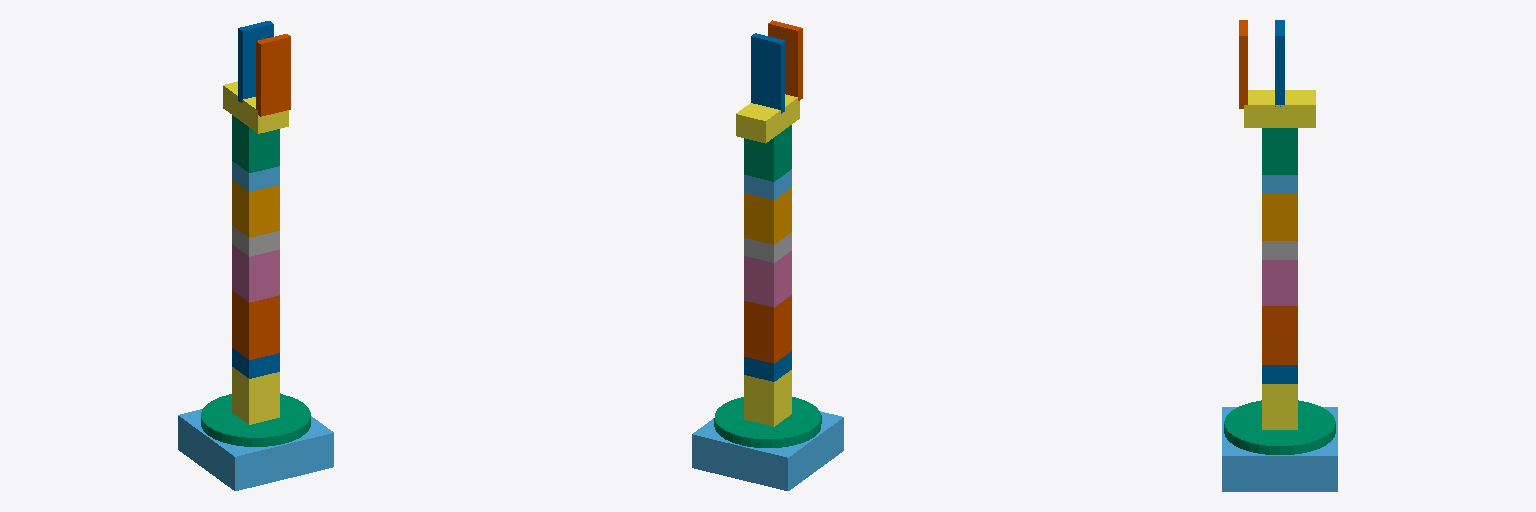
The robot description file, URDF, robot "crustcrawler":
<?xml version="1.0"?>
<robot name="crustcrawler">

<!-- Fixing robot to world frame-->
<link name="world">
  <origin xyz="0 0 -100" rpy="0 0 0"/>
</link>
<joint name="fixed" type="fixed">
    <parent link="world"/>
    <child link="base_link"/>
</joint>

<!-- Base -->
<link name="base_link">
  <visual>
    <geometry>
      <box size ="0.1143 0.1143 0.0381"/>
    </geometry>
    <origin xyz="0 0 0" rpy="0 0 0"/>
  </visual>
<inertial>
  <origin xyz="0 0 0" rpy="0 0 0"/>
  <mass value="2"/>
  <inertia ixx="1" ixy="0" ixz="0" iyy="1" iyz="0" izz="1" />
</inertial>
</link>

<!-- First Joint -->
<link name="turntable">
  <visual>
    <geometry>
      <cylinder radius= "0.055" length= "0.01"/>
    </geometry>
    <origin xyz ="0 0 0" rpy="0 0 0"/>
  </visual>
  <inertial>
     <origin xyz="0 0 0" rpy="0 0 0"/>
     <mass value="0.05"/>
     <inertia ixx="0.082" ixy="0" ixz="0" iyy="0.082" iyz="0" izz="0.076" />
   </inertial>

</link>
<joint name="base_to_turntable" type="continuous">
  <parent link="base_link"/>
  <child link="turntable"/>
  <origin xyz="0 0 0.02405" rpy="0 0 0"/>
  <axis xyz ="0 0 1"/>
</joint>


<!-- Second Joint -->
<link name="second_motor">
  <visual>
    <geometry>
      <box size ="0.0356 0.0355 0.0506"/>
    </geometry>
    <origin xyz ="0 0 0.0253" rpy="0 0 0"/>
  </visual>
<inertial>
   <origin xyz="0 0 0.0253" rpy="0 0 0"/>
   <mass value="0.126"/>
   <inertia ixx="0.04" ixy="0" ixz="0"
            iyy="0.04" iyz="0"
            izz="0.0456" />
 </inertial>
</link>
<joint name="turntable_to_second_motor" type="fixed">
  <parent link="turntable"/>
  <child link="second_motor"/>
  <origin xyz="0 0 0.005" rpy="0 0 0"/>
  <axis xyz ="1 0 0"/>
</joint>

<link name="first_mounting_plate">
  <visual>
    <geometry>
      <box size ="0.0356 0.0355 0.0206"/>
    </geometry>
    <origin xyz ="0 0 0.0103" rpy="0 0 0"/>
  </visual>
<inertial>
   <origin xyz="0 0 0.0103" rpy="0 0 0"/>
   <mass value="0.01"/>
   <inertia ixx="0.0014" ixy="0" ixz="0"
            iyy="0.0014" iyz="0"
            izz="0.0021" />
 </inertial>
</link>
<joint name="second_motor_to_first_mounting_plate" type="continuous">
  <parent link="second_motor"/>
  <child link="first_mounting_plate"/>
  <origin xyz="0 0 0.0506" rpy="0 0 0" />
  <axis xyz ="1 0 0"/>
  <limit effort="0.1" velocity="50"/>
</joint>
<!-- over var det rpy = 1.57 0 0-->

<!-- Girder -->
<link name="girder">
  <visual>
    <geometry>
    <box size ="0.0356 0.0355 0.0635"/>
    </geometry>
    <origin xyz ="0 0 0.03175" rpy="0 0 0"/>
  </visual>
  <inertial>
     <origin xyz="0 0 0.03175" rpy="0 0 0"/>
     <mass value="0.03"/>
     <inertia ixx="0.0176" ixy="0" ixz="0" iyy="0.0176" iyz="0" izz="0.00842" />
   </inertial>
</link>
<joint name="first_mounting_plate_to_girder" type="fixed">
  <parent link="first_mounting_plate"/>
  <child link="girder"/>
  <origin xyz="0 0 0.0206" rpy="0 0 0"/>
  <axis xyz ="1 0 0"/>
</joint>

<!-- Third Joint -->
<link name="third_motor">
  <visual>
    <geometry>
      <box size ="0.0356 0.0355 0.0506"/>
    </geometry>
    <origin xyz ="0 0 0.0253" rpy="0 0 0"/>
  </visual>
<inertial>
   <origin xyz="0 0 0.0253" rpy="0 0 0"/>
   <mass value="0.126"/>
   <inertia ixx="0.04" ixy="0" ixz="0"
            iyy="0.04" iyz="0"
            izz="0.0456" />
 </inertial>
</link>
<joint name="girder_to_third_motor" type="fixed">
  <parent link="girder"/>
  <child link="third_motor"/>
  <origin xyz="0 0 0.0635" rpy="0 0 0"/>
  <axis xyz ="1 0 0"/>
</joint>
<link name="second_mounting_plate">
  <visual>
    <geometry>
      <box size ="0.0356 0.0355 0.0206"/>
    </geometry>
    <origin xyz ="0 0 0.0103" rpy="0 0 0"/>
  </visual>
<inertial>
   <origin xyz="0 0 0.0103" rpy="0 0 0"/>
   <mass value="0.01"/>
   <inertia ixx="0.0014" ixy="0" ixz="0"
            iyy="0.0014" iyz="0"
            izz="0.0021" />
 </inertial>
</link>
<joint name="third_motor_to_second_mounting_plate" type="continuous">
  <parent link="third_motor"/>
  <child link="second_mounting_plate"/>
  <origin xyz="0 0 0.0506" rpy="0 0 0" />
  <axis xyz ="1 0 0"/>
  <!--limit effort="10" velocity="50"/-->
</joint>

<!-- Fourth Joint -->
<link name="fourth_motor">
  <visual>
    <geometry>
      <box size ="0.0356 0.0355 0.0506"/>
    </geometry>
    <origin xyz ="0 0 0.0253" rpy="0 0 0"/>
  </visual>
<inertial>
   <origin xyz="0 0 0.0253" rpy="0 0 0"/>
   <mass value="0.126"/>
   <inertia ixx="0.04" ixy="0" ixz="0"
            iyy="0.04" iyz="0"
            izz="0.0456" />
 </inertial>
</link>
<joint name="second_mounting_plate_to_fourth_motor" type="fixed">
  <parent link="second_mounting_plate"/>
  <child link="fourth_motor"/>
  <origin xyz="0 0 0.0206" rpy="0 0 0"/>
  <axis xyz ="1 0 0"/>
</joint>

<link name="third_mounting_plate">
  <visual>
    <geometry>
      <box size ="0.0356 0.0355 0.0206"/>
    </geometry>
    <origin xyz ="0 0 0.0103" rpy="0 0 0"/>
  </visual>
<inertial>
   <origin xyz="0 0 0.0103" rpy="0 0 0"/>
   <mass value="0.01"/>
   <inertia ixx="0.0014" ixy="0" ixz="0"
            iyy="0.0014" iyz="0"
            izz="0.0021" />
 </inertial>
</link>
<joint name="fourth_motor_to_third_mounting_plate" type="continuous">
  <parent link="fourth_motor"/>
  <child link="third_mounting_plate"/>
  <origin xyz="0 0 0.0506" rpy="0 0 0" />
  <axis xyz ="1 0 0"/>
  <!--OVer var det rpy = -1.57 0 0 -->
</joint>

<!-- Fifth Joint -->
<link name="wrist_rk">
  <visual>
    <geometry>
      <box size ="0.0356 0.0355 0.0506"/>
    </geometry>
    <origin xyz ="0 0 0.0253" rpy="0 0 0"/>
  </visual>
  <inertial>
     <origin xyz="0 0 0.0253" rpy="0 0 0"/>
     <mass value="0.126"/>


     <inertia ixx="0.04" ixy="0" ixz="0"
              iyy="0.04" iyz="0"
              izz="0.0456" />

   </inertial>

</link>
<joint name="third_mounting_plate_to_wrist_rk" type="fixed">
  <parent link="third_mounting_plate"/>
  <child link="wrist_rk"/>
  <origin xyz="0 0 0.0206" rpy="0 0 0"/>
  <axis xyz ="0 0 1"/>
</joint>

<link name="wrist">
  <visual>
    <geometry>
      <box size ="0.0356 0.071 0.0253"/>
    </geometry>
    <origin xyz ="0 0 0.01265" rpy="0 0 0"/>
  </visual>
  <inertial>
     <origin xyz="0 0 0.01265" rpy="0 0 0"/>
     <mass value="0.126"/>
     <!--inertia ixx="1" ixy="0" ixz="0" iyy="1" iyz="0" izz="1" /-->
     <inertia ixx="0.0473" ixy="0" ixz="0" iyy="0.0158" iyz="0" izz="0.0131" />

   </inertial>
</link>
<joint name="wrist_rk_to_wrist" type="continuous">
  <parent link="wrist_rk"/>
  <child link="wrist"/>
  <origin xyz="0 0 0.0506" rpy="0 0 0"/>
  <axis xyz ="0 0 1"/>
</joint>

<!--Fingers -->
<link name="right_finger">
  <visual>
    <geometry>
      <box size ="0.0356 0.0089 0.08"/>
    </geometry>
    <origin xyz ="0 0 0.04" rpy="0 0 0"/>
  </visual>
  <inertial>
     <origin xyz="0 0 0.04" rpy="0 0 0"/>
     <mass value="0.01"/>
     <inertia ixx="0.0000001" ixy="0" ixz="0" iyy="0.0000001" iyz="0" izz="0.0000001" />
   </inertial>
</link>
<joint name="wrist_to_right_finger" type="fixed">
  <parent link="wrist"/>
  <child link="right_finger"/>
  <origin xyz="0 0 0.0206" rpy="0 0 0"/>
   <limit effort="1000.0" velocity="0.5"/>
  <axis xyz ="1 0 0"/>
</joint>

<link name="left_finger">
  <visual>
    <geometry>
      <box size ="0.0356 0.0089 0.08"/>
    </geometry>
    <origin xyz ="0 0 0.04" rpy="0 0 0"/>
  </visual>
  <inertial>
     <origin xyz="0 0 0.04" rpy="0 0 0"/>
     <mass value="0.01"/>
     <inertia ixx="0.0000001" ixy="0" ixz="0" iyy="0.0000001" iyz="0" izz="0.0000001" />
   </inertial>
</link>
<joint name="wrist_to_left_finger" type="fixed">
  <parent link="wrist"/>
  <child link="left_finger"/>
  <origin xyz="0 -0.0355 0.0206" rpy="0 0 0"/>
   <limit effort="1000.0" velocity="0.5"/>
  <axis xyz ="-1 0 0"/>
</joint>

</robot>

--- What the picture shows (computed from the rendered views, not written in the file) ---
3 views of the same robot in one strip: view 1: azimuth 30°, elevation 25°; view 2: azimuth 150°, elevation 25°; view 3: azimuth 270°, elevation 25° (orthographic).
Model crustcrawler with 14 links and 13 joints (5 continuous, 8 fixed), rooted at world, posed all joints at 0.
Visible links, largest first — view 1: base_link, turntable, girder, left_finger, second_motor, third_motor, fourth_motor, wrist_rk, right_finger, wrist, second_mounting_plate, first_mounting_plate (+1 smaller); view 2: base_link, turntable, girder, right_finger, second_motor, fourth_motor, third_motor, wrist, wrist_rk, left_finger, third_mounting_plate, first_mounting_plate (+1 smaller); view 3: base_link, turntable, wrist, girder, fourth_motor, wrist_rk, second_motor, third_motor, right_finger, left_finger, first_mounting_plate, second_mounting_plate (+1 smaller).
Boxes of the visible links, <box> form: base_link: <box>178,393,333,490</box>; turntable: <box>201,394,310,446</box>; girder: <box>232,290,279,359</box>; left_finger: <box>256,34,290,116</box>; second_motor: <box>232,367,279,424</box>; third_motor: <box>232,244,279,302</box>; fourth_motor: <box>232,180,279,237</box>; wrist_rk: <box>232,115,279,172</box>; right_finger: <box>238,21,273,102</box>; wrist: <box>223,81,288,133</box>; second_mounting_plate: <box>232,226,279,256</box>; first_mounting_plate: <box>232,348,279,378</box>; base_link: <box>692,411,843,490</box>; turntable: <box>714,397,821,447</box>; girder: <box>744,295,791,363</box>; right_finger: <box>751,33,784,113</box>; second_motor: <box>744,370,791,426</box>; fourth_motor: <box>744,188,791,244</box>; third_motor: <box>744,251,791,307</box>; wrist: <box>736,94,799,143</box>; wrist_rk: <box>744,125,791,181</box>; left_finger: <box>768,20,802,100</box>; third_mounting_plate: <box>744,169,791,199</box>; first_mounting_plate: <box>744,351,791,381</box>; base_link: <box>1222,407,1337,491</box>; turntable: <box>1224,400,1335,454</box>; wrist: <box>1244,90,1315,127</box>; girder: <box>1262,306,1297,364</box>; fourth_motor: <box>1262,194,1297,240</box>; wrist_rk: <box>1262,128,1297,174</box>; second_motor: <box>1262,384,1297,429</box>; third_motor: <box>1262,260,1297,305</box>; right_finger: <box>1275,20,1284,106</box>; left_finger: <box>1239,20,1247,108</box>; first_mounting_plate: <box>1262,365,1297,383</box>; second_mounting_plate: <box>1262,241,1297,259</box>.
Size in the robot's own frame: 0.1143 by 0.1143 by 0.4764 metres.
Geometry: primitives only (box / cylinder / sphere), no mesh files.